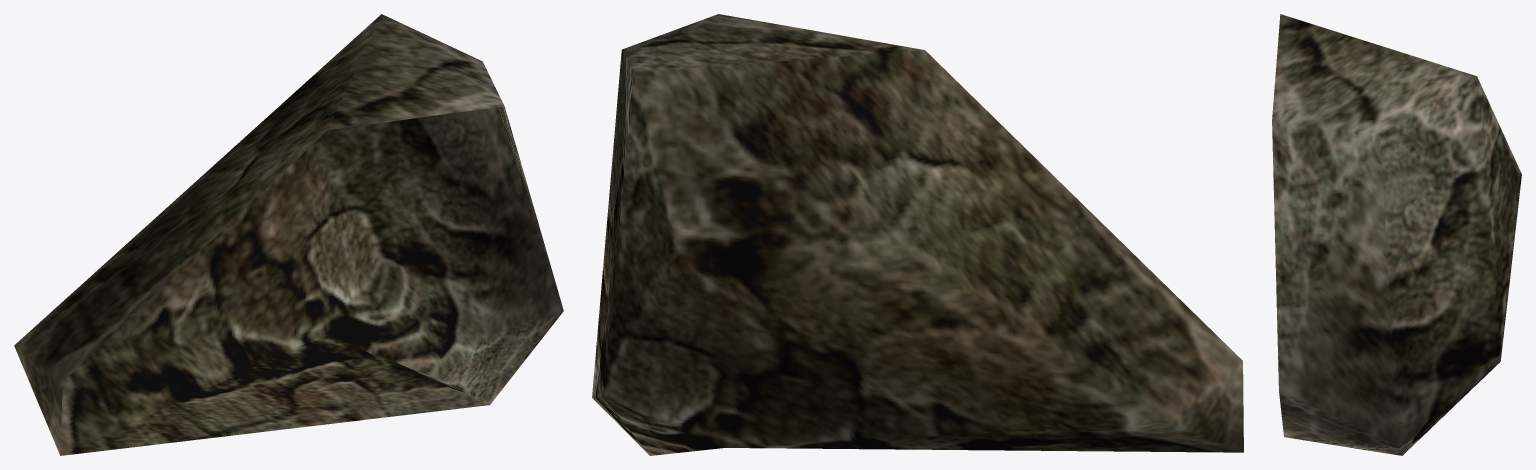
The model's file is MEP_Stones_01_f.fbx.
The picture shows the model from 3 angles, left to right: view 1: azimuth 30°, elevation 25°; view 2: azimuth 150°, elevation 25°; view 3: azimuth 270°, elevation 25°; orthographic projection. The views are drawn at different scales.
Visible parts, largest first — view 1: MEP_Stone_01_f; view 2: MEP_Stone_01_f; view 3: MEP_Stone_01_f.
Part boxes in pixels (<box>): MEP_Stone_01_f: <box>14,14,563,455</box>; MEP_Stone_01_f: <box>592,14,1243,455</box>; MEP_Stone_01_f: <box>1272,14,1521,455</box>.
Size of the model in its own units: 1.36 by 0.8991 by 0.5529.
